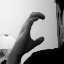c: (16, 10, 46, 47)
